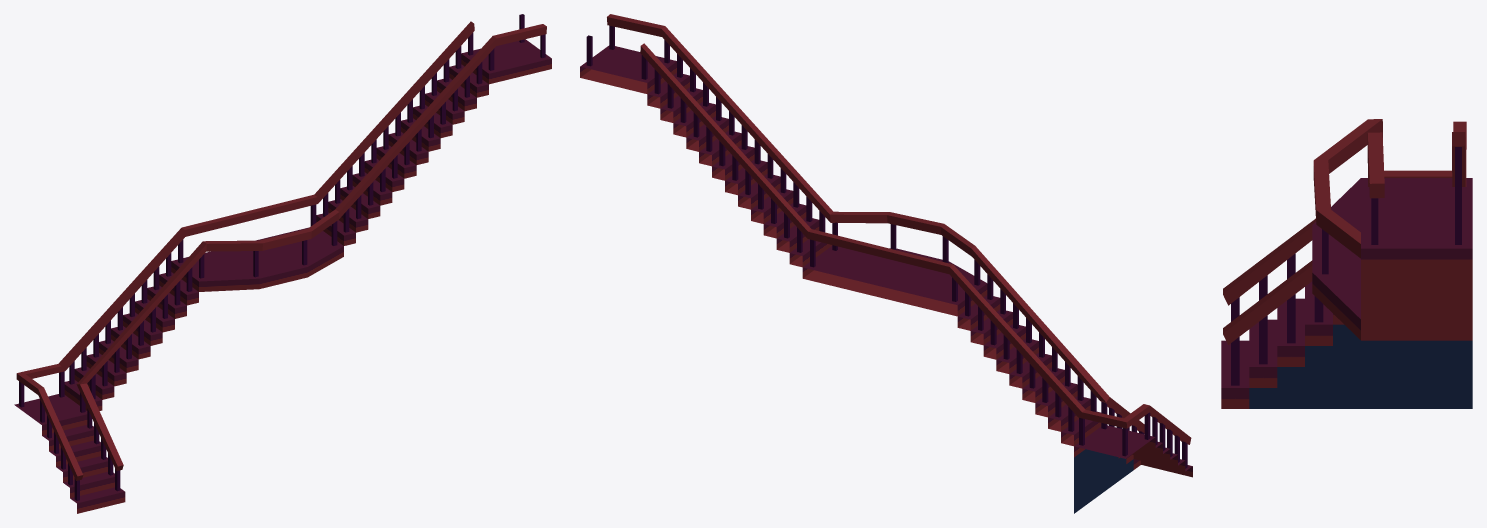
Rendered from EscadaMoretti.fbx.
The picture shows the model from 3 angles, left to right: view 1: azimuth 30°, elevation 25°; view 2: azimuth 150°, elevation 25°; view 3: azimuth 270°, elevation 25°; orthographic projection. The views are drawn at different scales.
Visible parts, largest first — view 1: Escada Moretti; view 2: Escada Moretti; view 3: Escada Moretti.
Boxes of the visible parts, x1,y1,x2,y2 form: Escada Moretti: [14, 14, 551, 513]; Escada Moretti: [580, 14, 1192, 513]; Escada Moretti: [1221, 119, 1472, 408].
Bounding box in the file's own units: 12.66 × 8 × 2.7.
